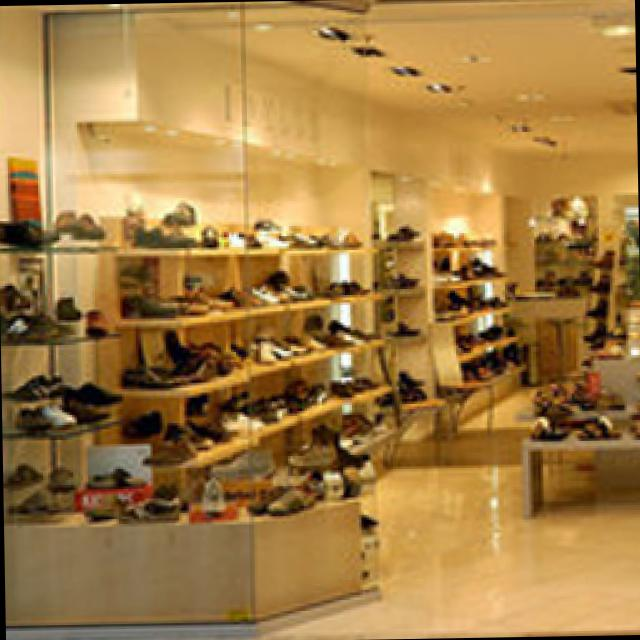boot: (280, 425, 335, 463)
ceiling beam: (8, 0, 632, 156)
counter bottom: (502, 291, 582, 374)
floor -X: (5, 369, 640, 640)
lamp crop: (348, 42, 375, 57), (597, 22, 625, 35), (391, 63, 416, 76), (426, 78, 446, 91)
shelves crop: (96, 214, 390, 484), (426, 237, 526, 420), (371, 218, 437, 441)
shoe: (56, 377, 116, 405), (137, 432, 192, 461), (129, 221, 189, 245), (1, 215, 58, 240), (120, 291, 172, 316), (574, 410, 620, 436), (119, 363, 171, 383), (54, 292, 80, 319)
shoes occluded: (222, 268, 307, 309), (458, 349, 516, 377), (53, 207, 106, 236), (442, 288, 507, 310)
stand clothes: (0, 243, 375, 620), (522, 327, 638, 516)
wall clock: (0, 6, 528, 580), (522, 150, 638, 374)
